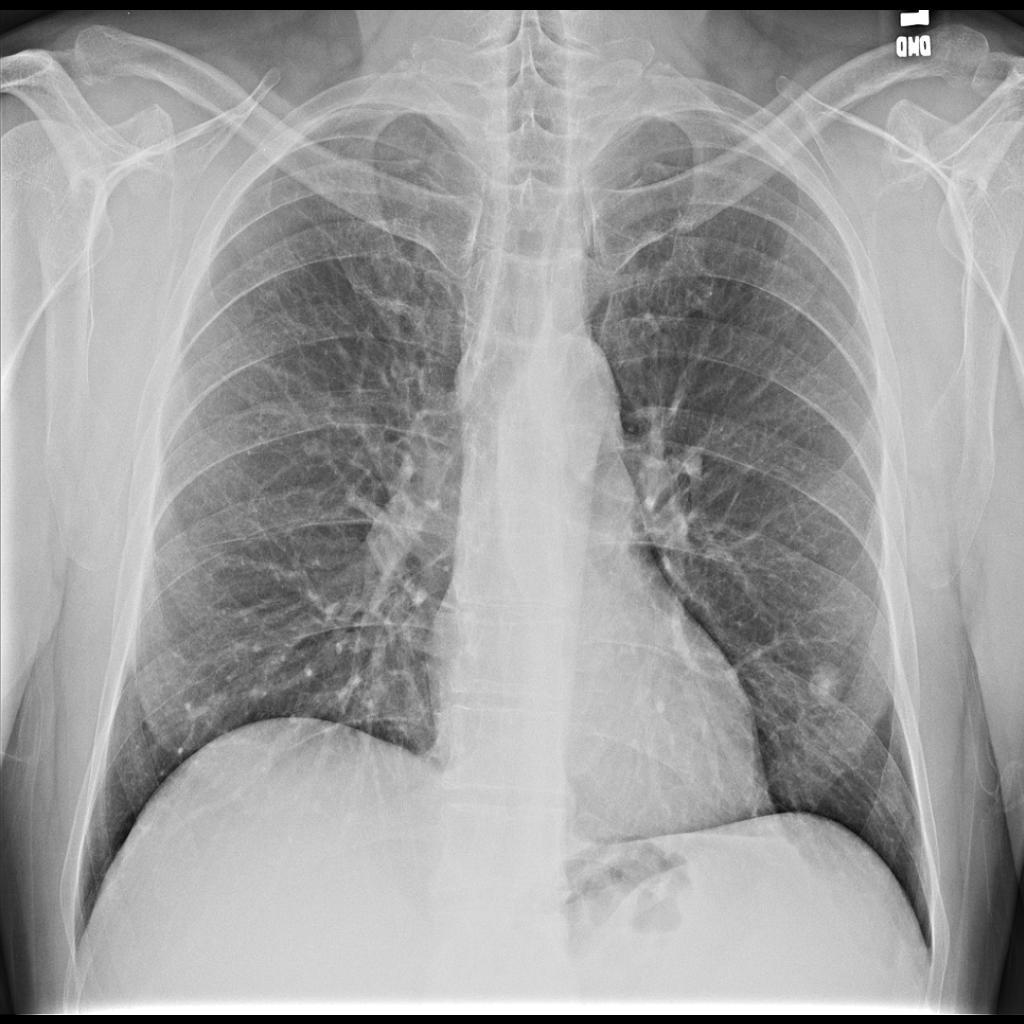Nodule: (807, 658, 852, 710)
